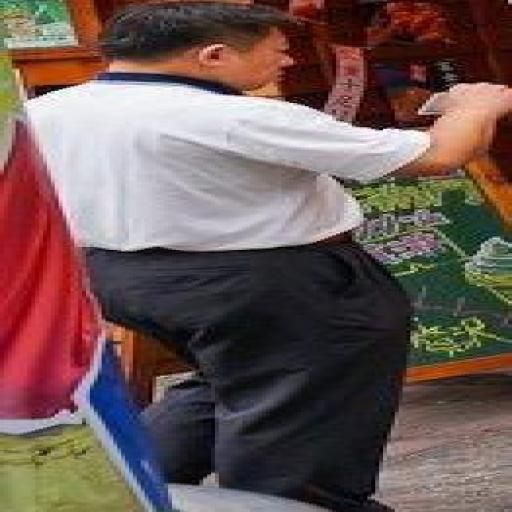person: (28, 2, 511, 511)
